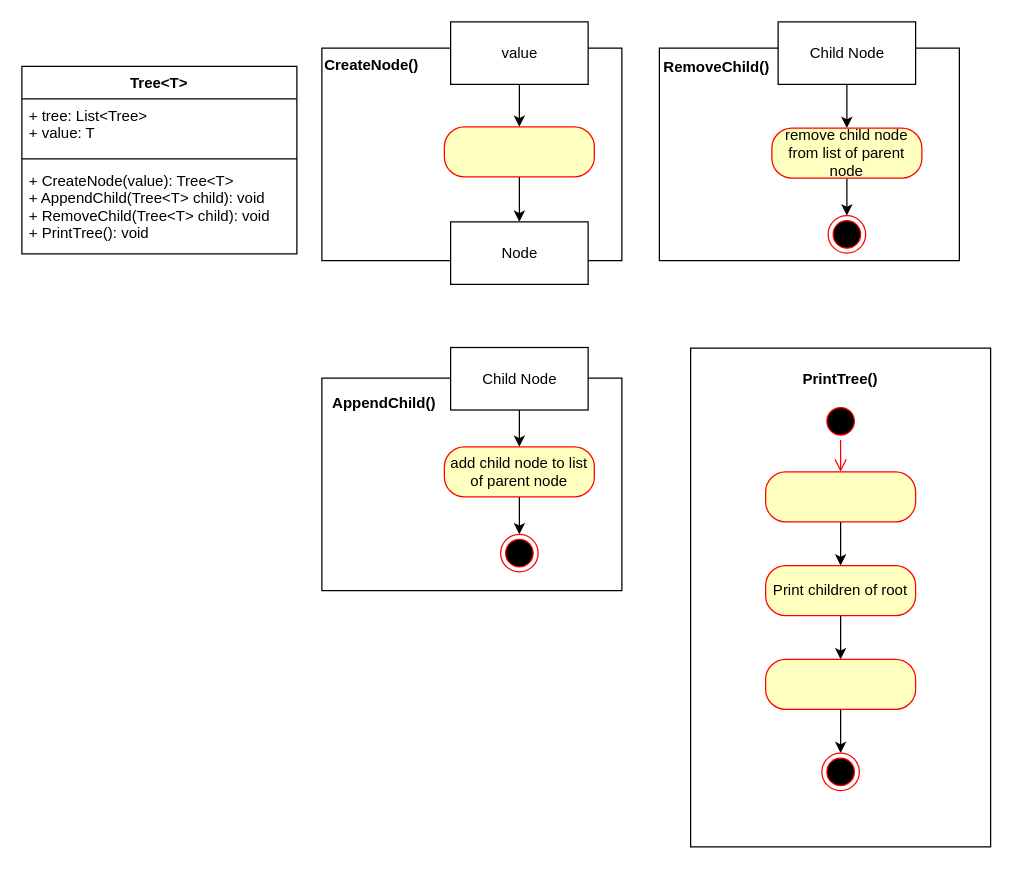
Some shapes in this 1013 by 869 pixel diagram are drawn without their labels. Here are the shapes that lost their labels. From the top down, the box of each, then its label:
(443, 126, 594, 177): create new instance of Node
(764, 471, 916, 522): Print root
(764, 658, 916, 709): Print childrens children etc.
